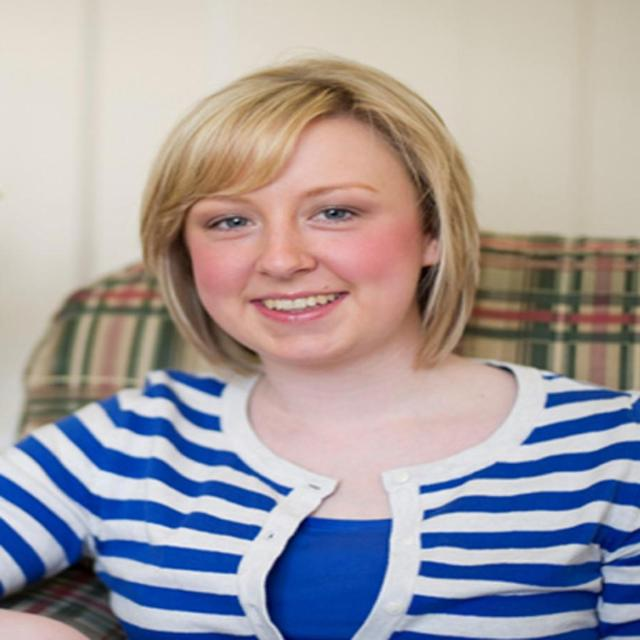Face: (172, 84, 454, 368)
